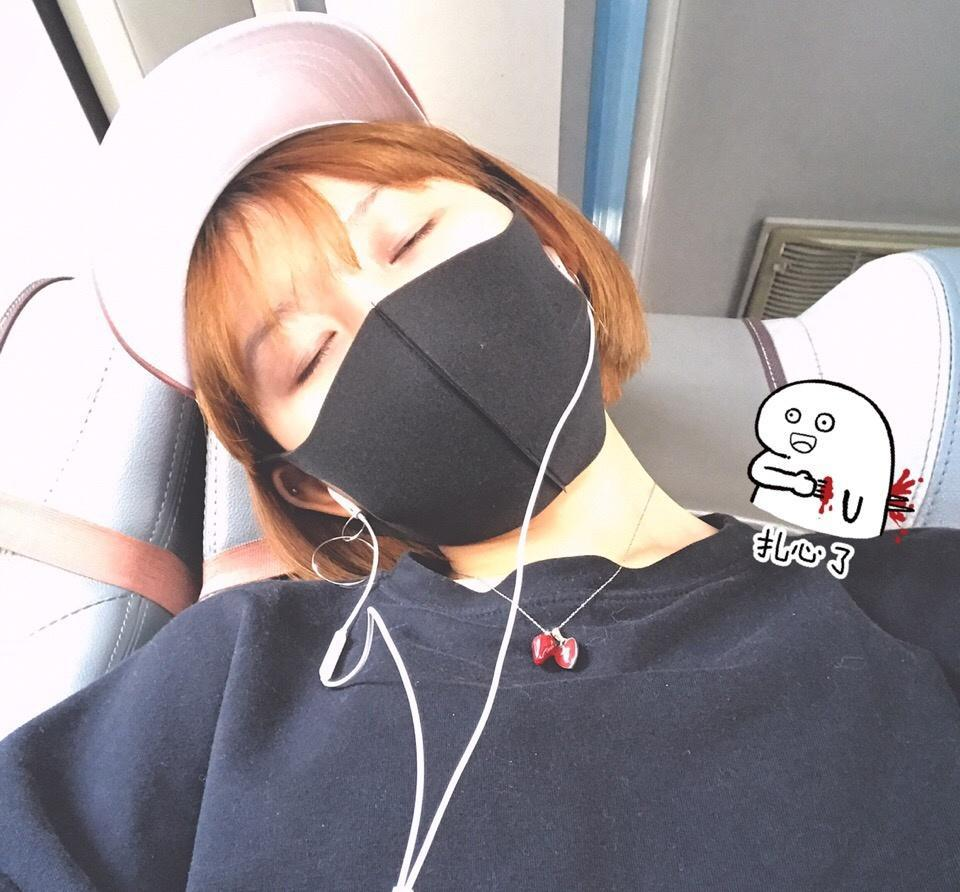OK: (238, 174, 610, 546)
